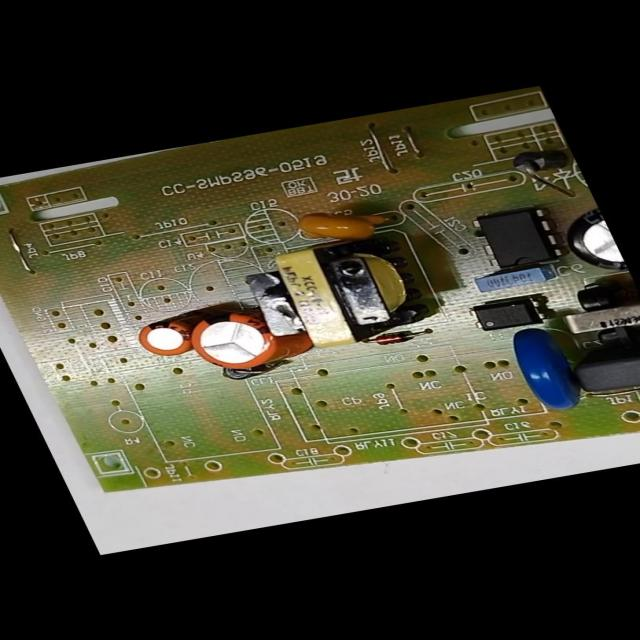Cap1: (182, 309, 286, 372)
Cap2: (133, 319, 198, 358)
Cap3: (560, 209, 626, 274)
MOSFET: (470, 205, 568, 269)
Mov: (504, 327, 582, 414)
Transformer: (236, 236, 443, 355), (552, 279, 639, 359)
